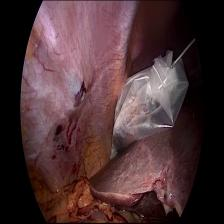Specimen Bag: (106, 47, 190, 167)
